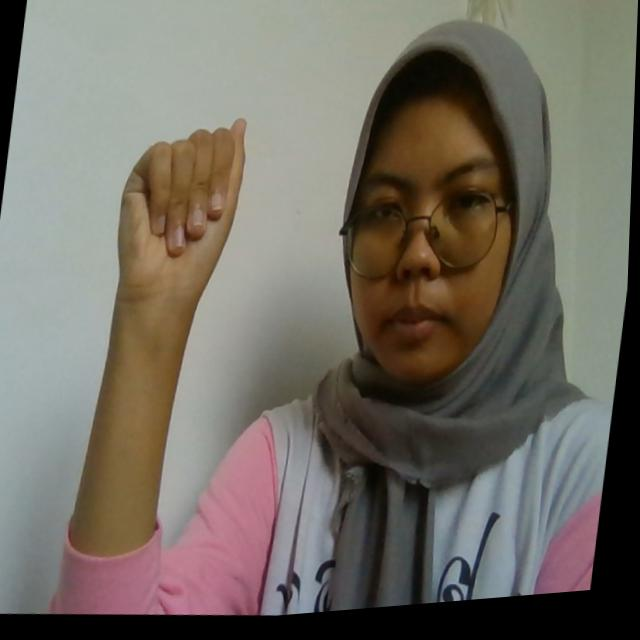A: (112, 110, 254, 301)
